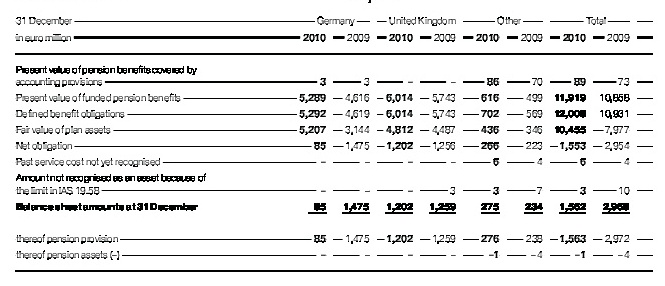table: (0, 0, 665, 286)
